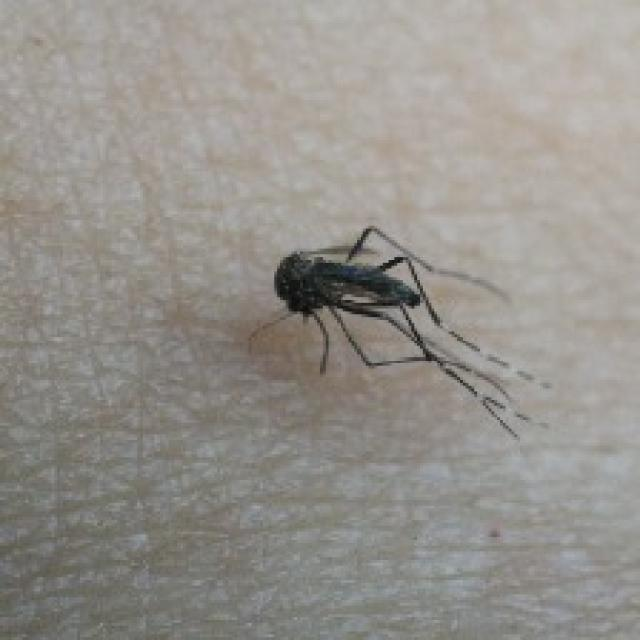aedes: (246, 223, 548, 440)
